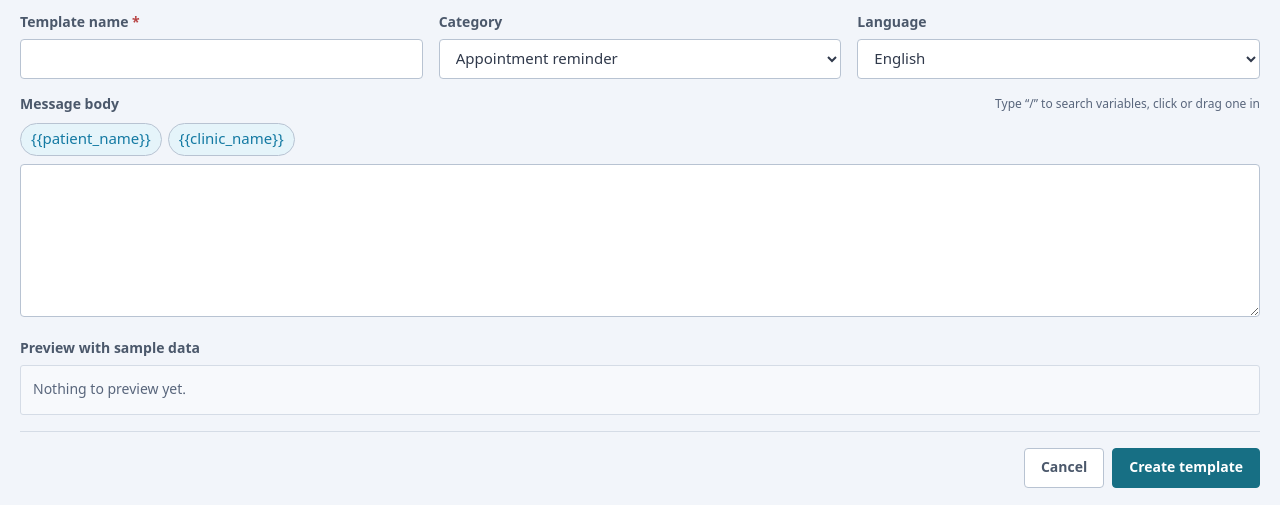
Test: TemplateForm variable insertion › opens a searchable slash menu and inserts the selected variable at the slash
Check: the button "{{clinic_name}}" is shown, box [168,123,295,156]
Type "Hi /cli" into the text box at (640,240), box [20,164,1260,316]
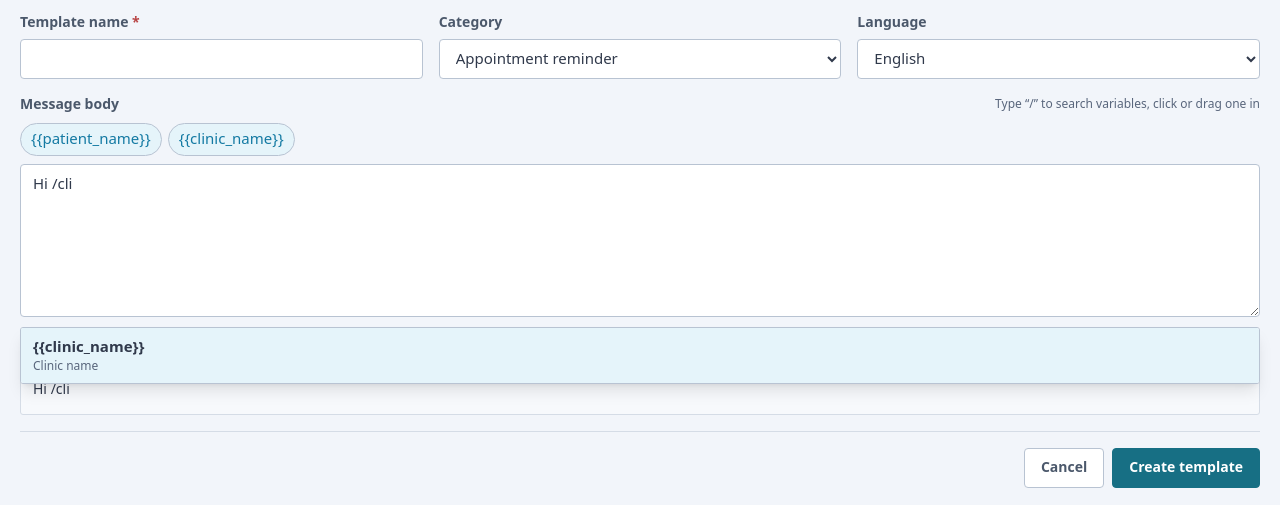
Press the mouse on the button "{{clinic_name}} Clinic name" at (89,347), box [21,328,1259,382]
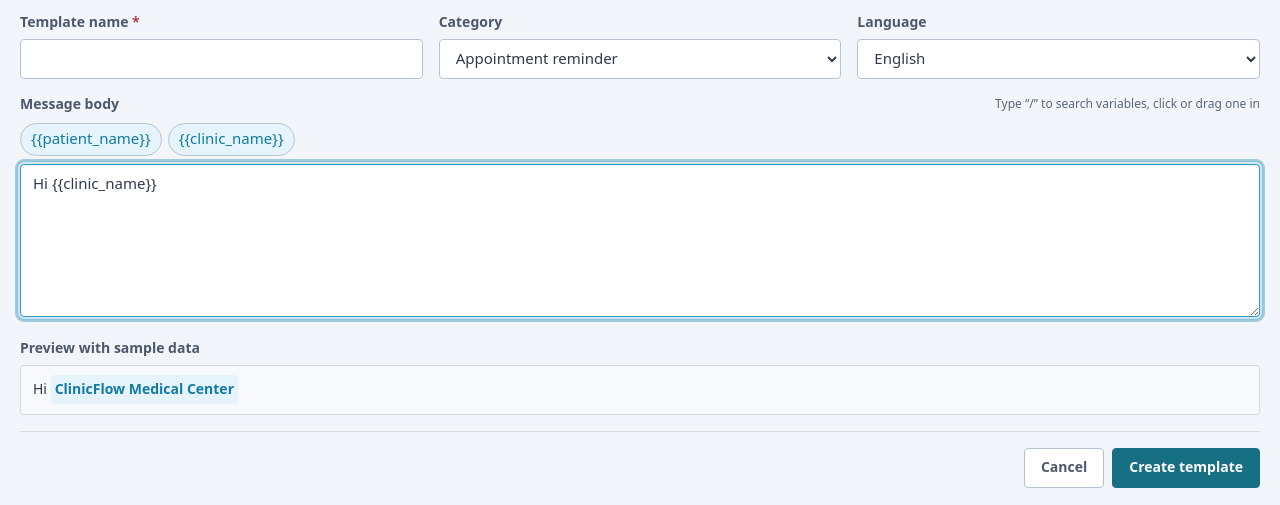
Check: the text box holds "Hi {{clinic_name}}", box [20,164,1260,316]
